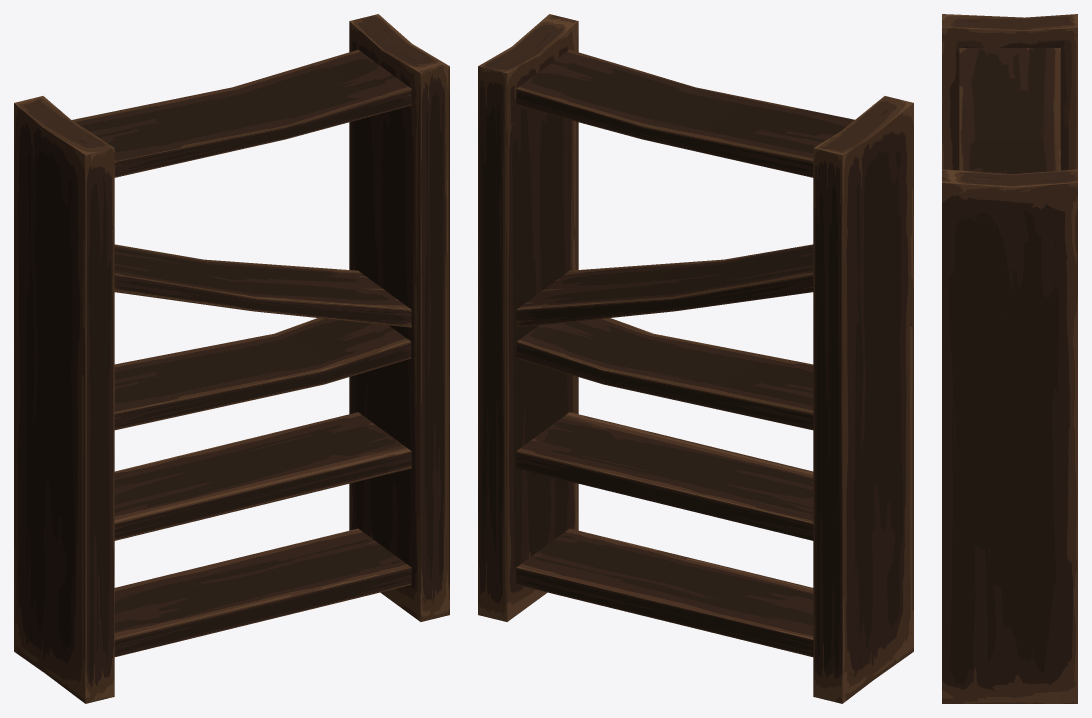
The model's file is SM_PROP_bookshelf_dungeon_04.fbx.
3 renders of one model, left to right at view 1: azimuth 30°, elevation 25°; view 2: azimuth 150°, elevation 25°; view 3: azimuth 270°, elevation 25°, orthographic. The views are drawn at different scales.
Parts seen in each view (by area): view 1: SM_PROP_bookshelf_dungeon_04; view 2: SM_PROP_bookshelf_dungeon_04; view 3: SM_PROP_bookshelf_dungeon_04.
Part boxes in pixels (<box>): SM_PROP_bookshelf_dungeon_04: <box>14,14,449,703</box>; SM_PROP_bookshelf_dungeon_04: <box>478,14,913,703</box>; SM_PROP_bookshelf_dungeon_04: <box>942,14,1077,703</box>.
Size of the model in its own units: 177 by 255 by 60.18.
